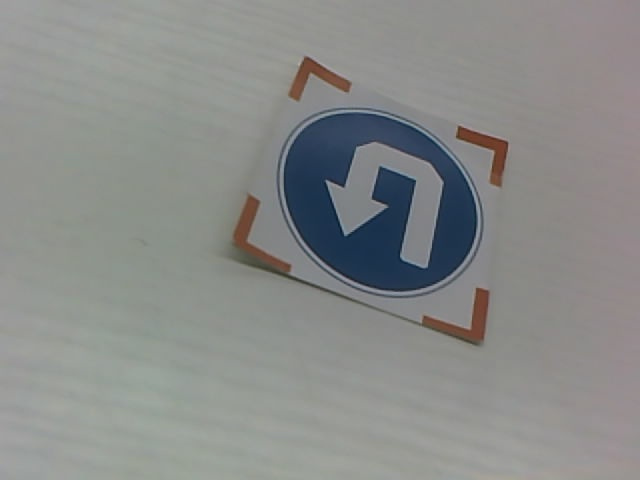turn_around: (242, 69, 495, 309)
